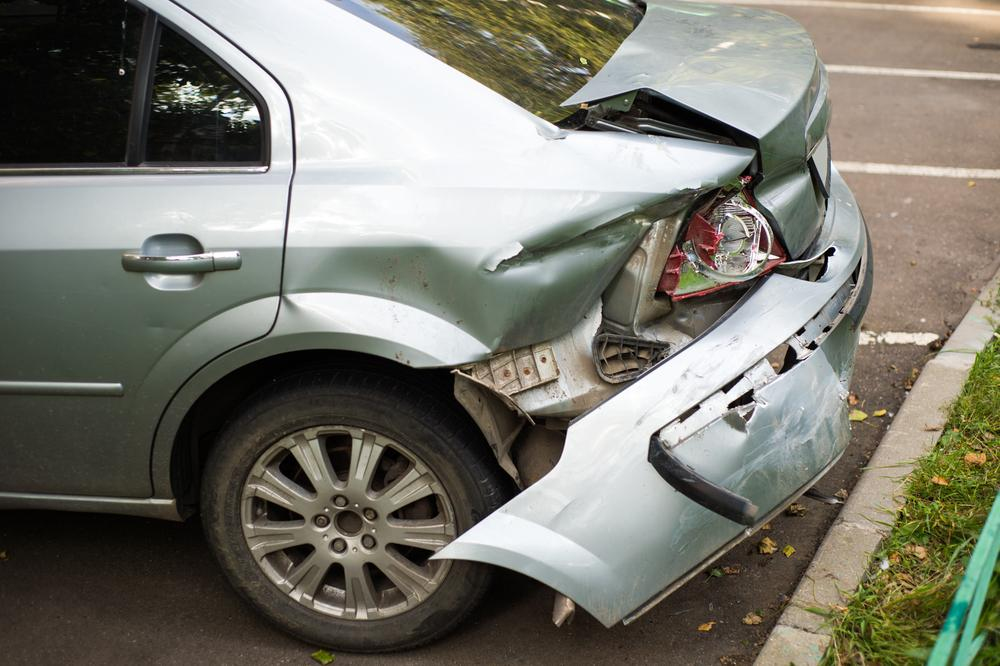dent: (287, 232, 500, 361), (472, 207, 640, 283)
lamp broken: (661, 185, 786, 302)
